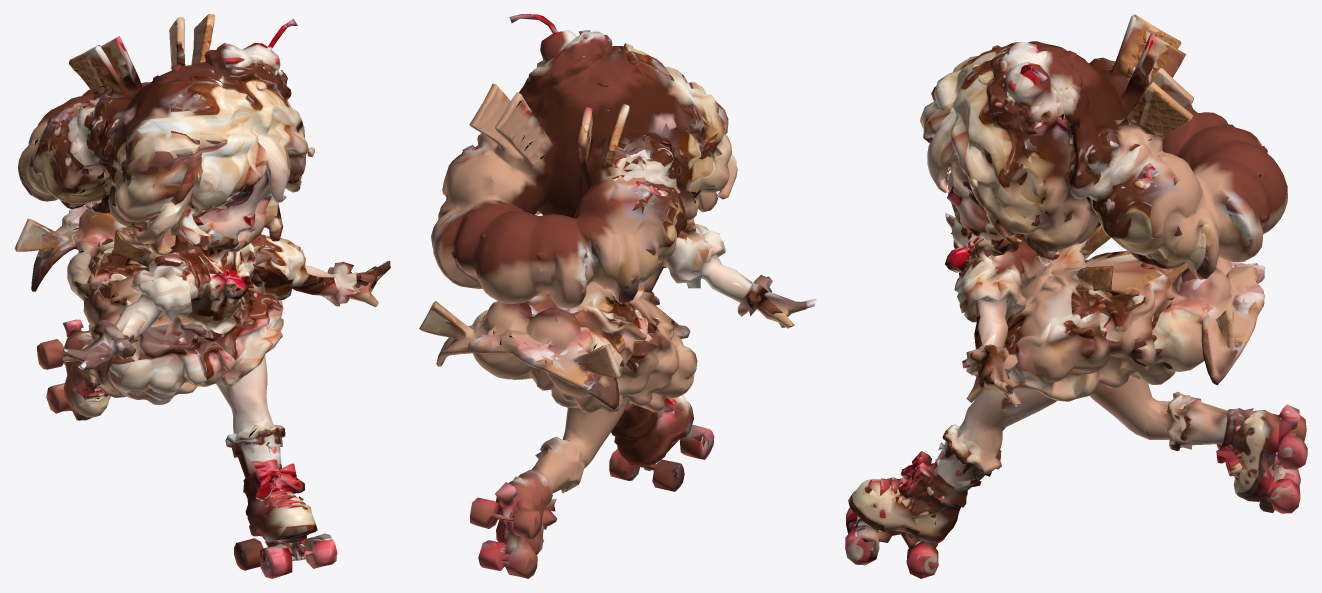
File: original.glb
3 renders of one model, left to right at view 1: azimuth 30°, elevation 25°; view 2: azimuth 150°, elevation 25°; view 3: azimuth 270°, elevation 25°, orthographic. The views are drawn at different scales.
Visible parts, largest first — view 1: Body; view 2: Body; view 3: Body.
Boxes of the visible parts, <box> form: Body: <box>14,14,390,578</box>; Body: <box>419,14,816,578</box>; Body: <box>845,14,1307,578</box>.
Bounding box in the file's own units: 0.7199 × 1 × 0.7909.
Materials: 2 (2 with a texture image).
